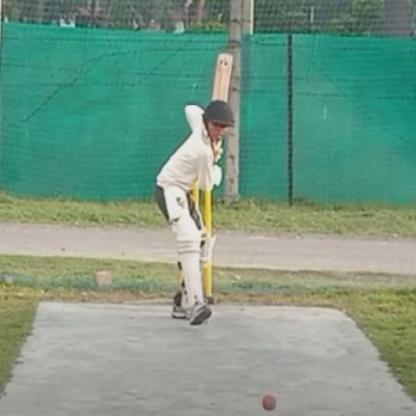ball: (258, 391, 277, 411)
